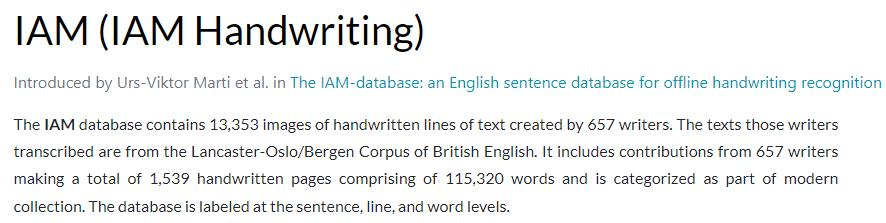text: (12, 73, 882, 95), (14, 10, 425, 54), (11, 169, 840, 189), (11, 116, 840, 134), (12, 144, 841, 162), (13, 199, 511, 216)
